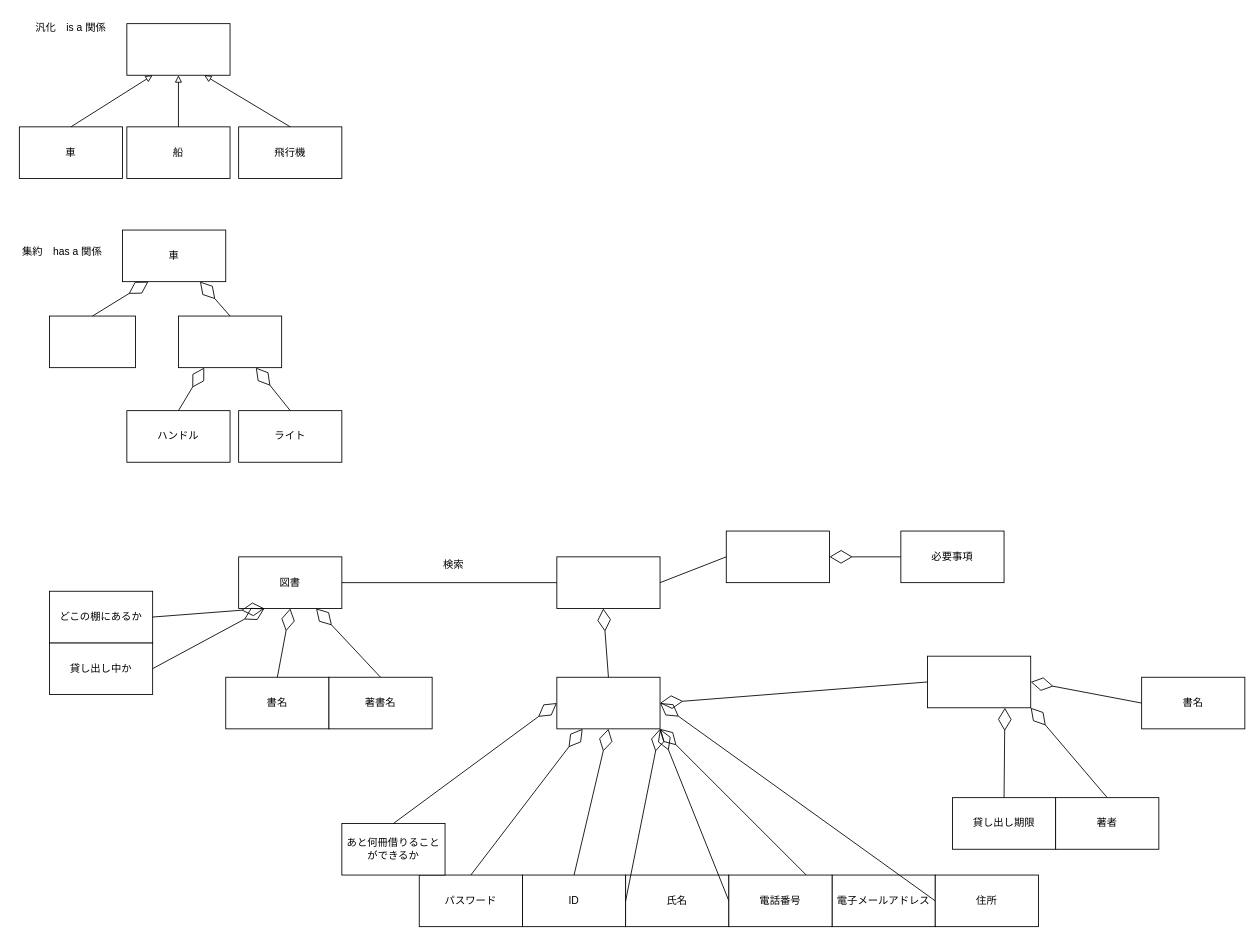
The diagram is 1260 pixels wide and 942 high, and some of its shapes have lost their labels. Here are the shapes that lost their labels. From the top down, the box of each, then its label:
(126, 23, 230, 75): 乗り物
(49, 315, 135, 368): エンジン
(178, 315, 282, 368): ボディ
(725, 530, 829, 583): 貸し出し予約
(556, 556, 660, 608): 利用者
(927, 655, 1031, 708): 借りている本
(556, 676, 660, 729): 図書カード
